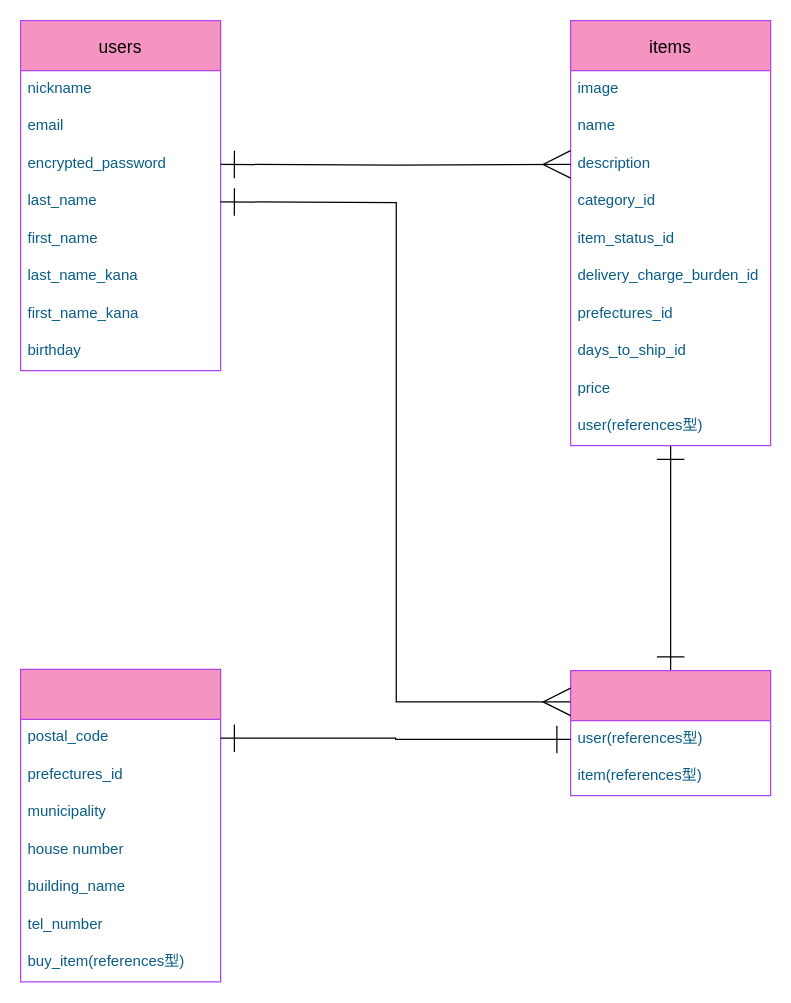
The diagram is 791 pixels wide and 1003 high, and some of its shapes have lost their labels. The box of each missing label's shape, as (x1, y1, x2, y2) in pixels:
addresses: (19, 668, 221, 982)
buy_items: (569, 669, 771, 796)
